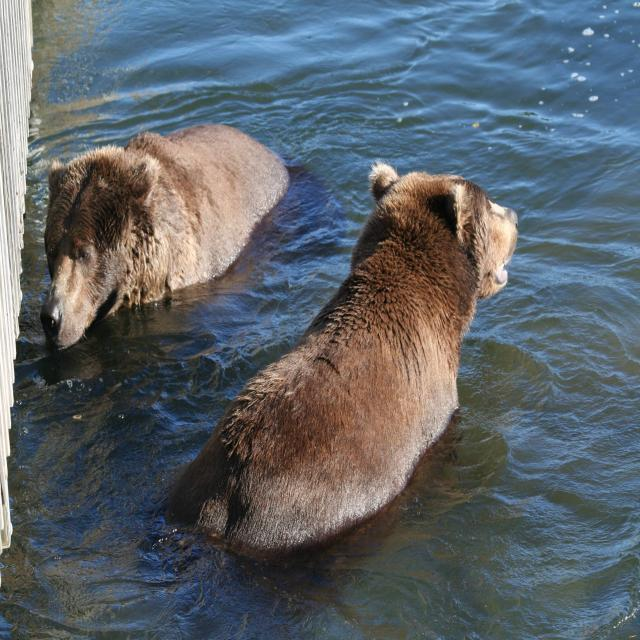bear face: (196, 160, 521, 542), (40, 125, 286, 352)
